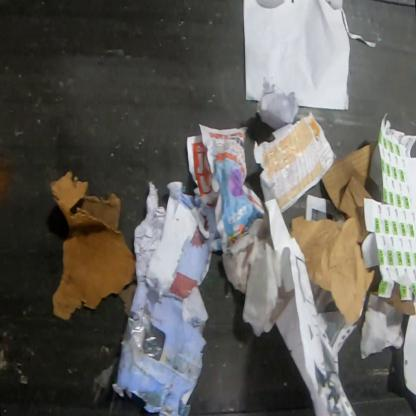cardboard: (48, 169, 138, 323), (320, 142, 376, 244), (382, 281, 415, 316), (368, 266, 382, 296)
soft_plastic: (120, 309, 165, 367)
